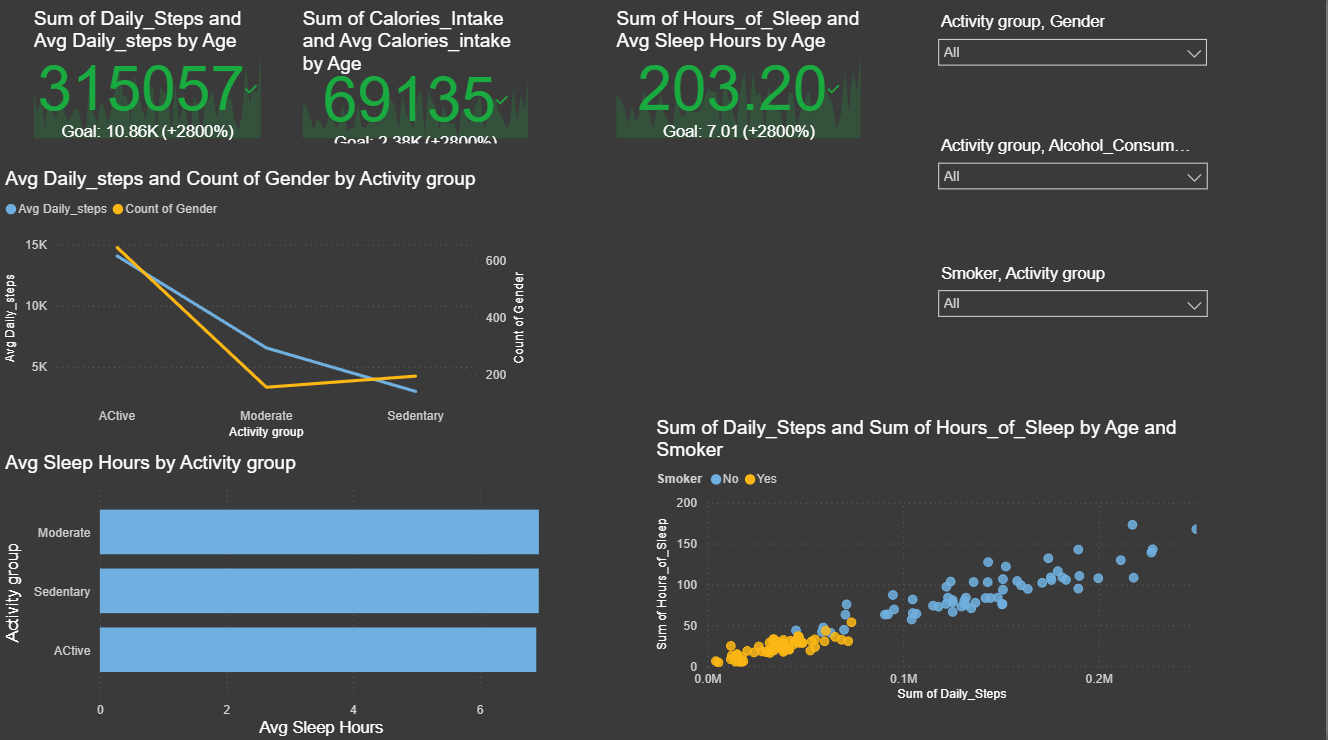

What the dashboard file says about the page in this screenshot:
{"tool":"powerbi","page":{"name":"  Lifestyle Overview","canvas":[1280,720],"ordinal":0},"visuals":[{"type":"kpi","fields":{"Goal":["health_activity_data.Avg Daily_steps"],"TrendLine":["health_activity_data.Age"],"Indicator":["Sum(health_activity_data.Daily_Steps)"]},"box":[27.7,12.1,229.2,131.5],"z":0},{"type":"kpi","fields":{"TrendLine":["health_activity_data.Age"],"Indicator":["Sum(health_activity_data.Calories_Intake)"],"Goal":["health_activity_data.Avg Calories_intake"]},"box":[287.1,12.1,228,131.5],"z":1000},{"type":"kpi","fields":{"Indicator":["Sum(health_activity_data.Hours_of_Sleep)"],"TrendLine":["health_activity_data.Age"],"Goal":["health_activity_data.Avg Sleep Hours"]},"box":[589.9,12.1,246.1,131.5],"z":2000},{"type":"clusteredBarChart","fields":{"Y":["health_activity_data.Avg Sleep Hours"],"Category":["health_activity_data.Activity group"]},"box":[0,440.2,533.2,280],"z":3000},{"type":"slicer","fields":{"Values":["health_activity_data.Activity group","health_activity_data.Gender"]},"box":[895.2,12.1,279.9,90.5],"z":4000},{"type":"slicer","fields":{"Values":["health_activity_data.Activity group","health_activity_data.Alcohol_Consumption_per_Week"]},"box":[895.1,132.1,280,90.5],"z":5000},{"type":"slicer","fields":{"Values":["health_activity_data.Smoker","health_activity_data.Activity group"]},"box":[895.1,254.3,280,90.5],"z":6000},{"type":"lineChart","fields":{"Y":["health_activity_data.Avg Daily_steps"],"Y2":["CountNonNull(health_activity_data.Gender)"],"Category":["health_activity_data.Activity group"]},"box":[0,166.3,513.6,266.6],"z":7000},{"type":"scatterChart","fields":{"X":["Sum(health_activity_data.Daily_Steps)"],"Y":["Sum(health_activity_data.Hours_of_Sleep)"],"Category":["health_activity_data.Age"],"Series":["health_activity_data.Smoker"]},"box":[628.6,406.6,546.5,279.9],"z":8000}]}

Visuals, with their boxes in screenshot pixels (x1, y1, x2, y2), scaled from the page's 1280x720 canvas onto the 1328x740 screenshot:
kpi - health_activity_data.Avg Daily_steps x health_activity_data.Age: Rect(29, 12, 267, 148)
kpi - health_activity_data.Age x Sum(health_activity_data.Calories_Intake): Rect(298, 12, 534, 148)
kpi - Sum(health_activity_data.Hours_of_Sleep) x health_activity_data.Age: Rect(612, 12, 867, 148)
clusteredBarChart - health_activity_data.Avg Sleep Hours x health_activity_data.Activity group: Rect(0, 452, 553, 739)
slicer - health_activity_data.Activity group x health_activity_data.Gender: Rect(929, 12, 1219, 105)
slicer - health_activity_data.Activity group x health_activity_data.Alcohol_Consumption_per_Week: Rect(929, 136, 1219, 229)
slicer - health_activity_data.Smoker x health_activity_data.Activity group: Rect(929, 261, 1219, 354)
lineChart - health_activity_data.Avg Daily_steps x CountNonNull(health_activity_data.Gender): Rect(0, 171, 533, 445)
scatterChart - Sum(health_activity_data.Daily_Steps) x Sum(health_activity_data.Hours_of_Sleep): Rect(652, 418, 1219, 706)
